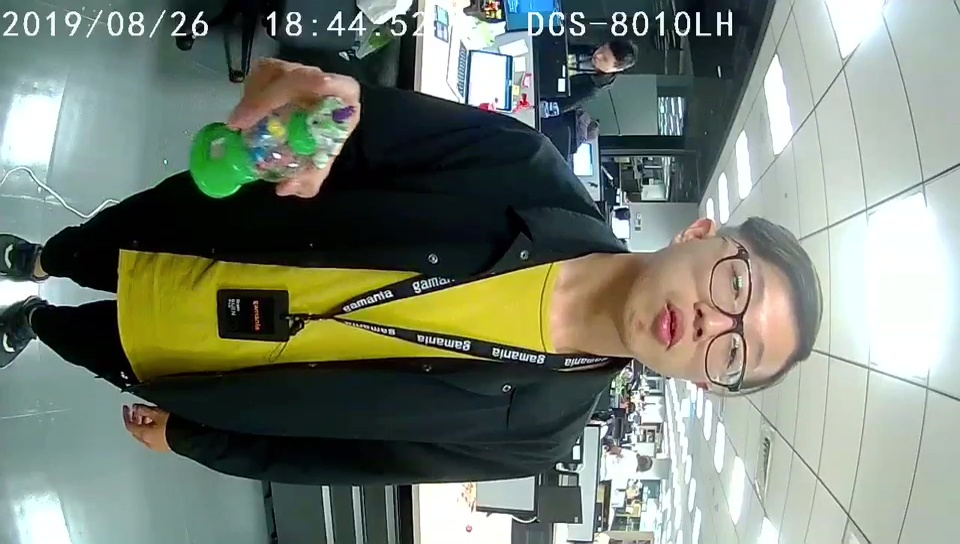buzz: (190, 93, 358, 200)
